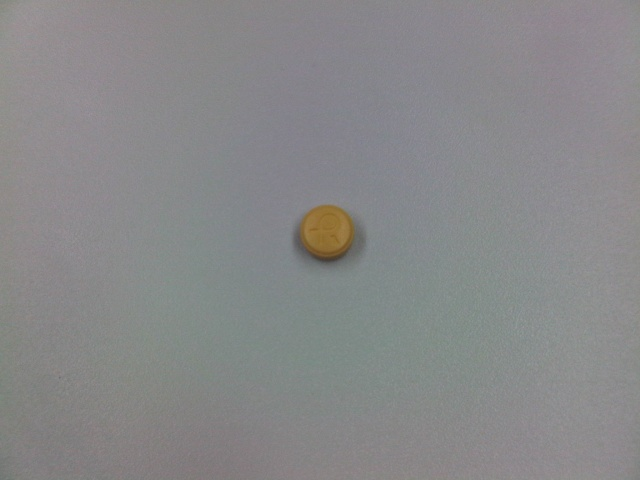R: (307, 211, 345, 250)
